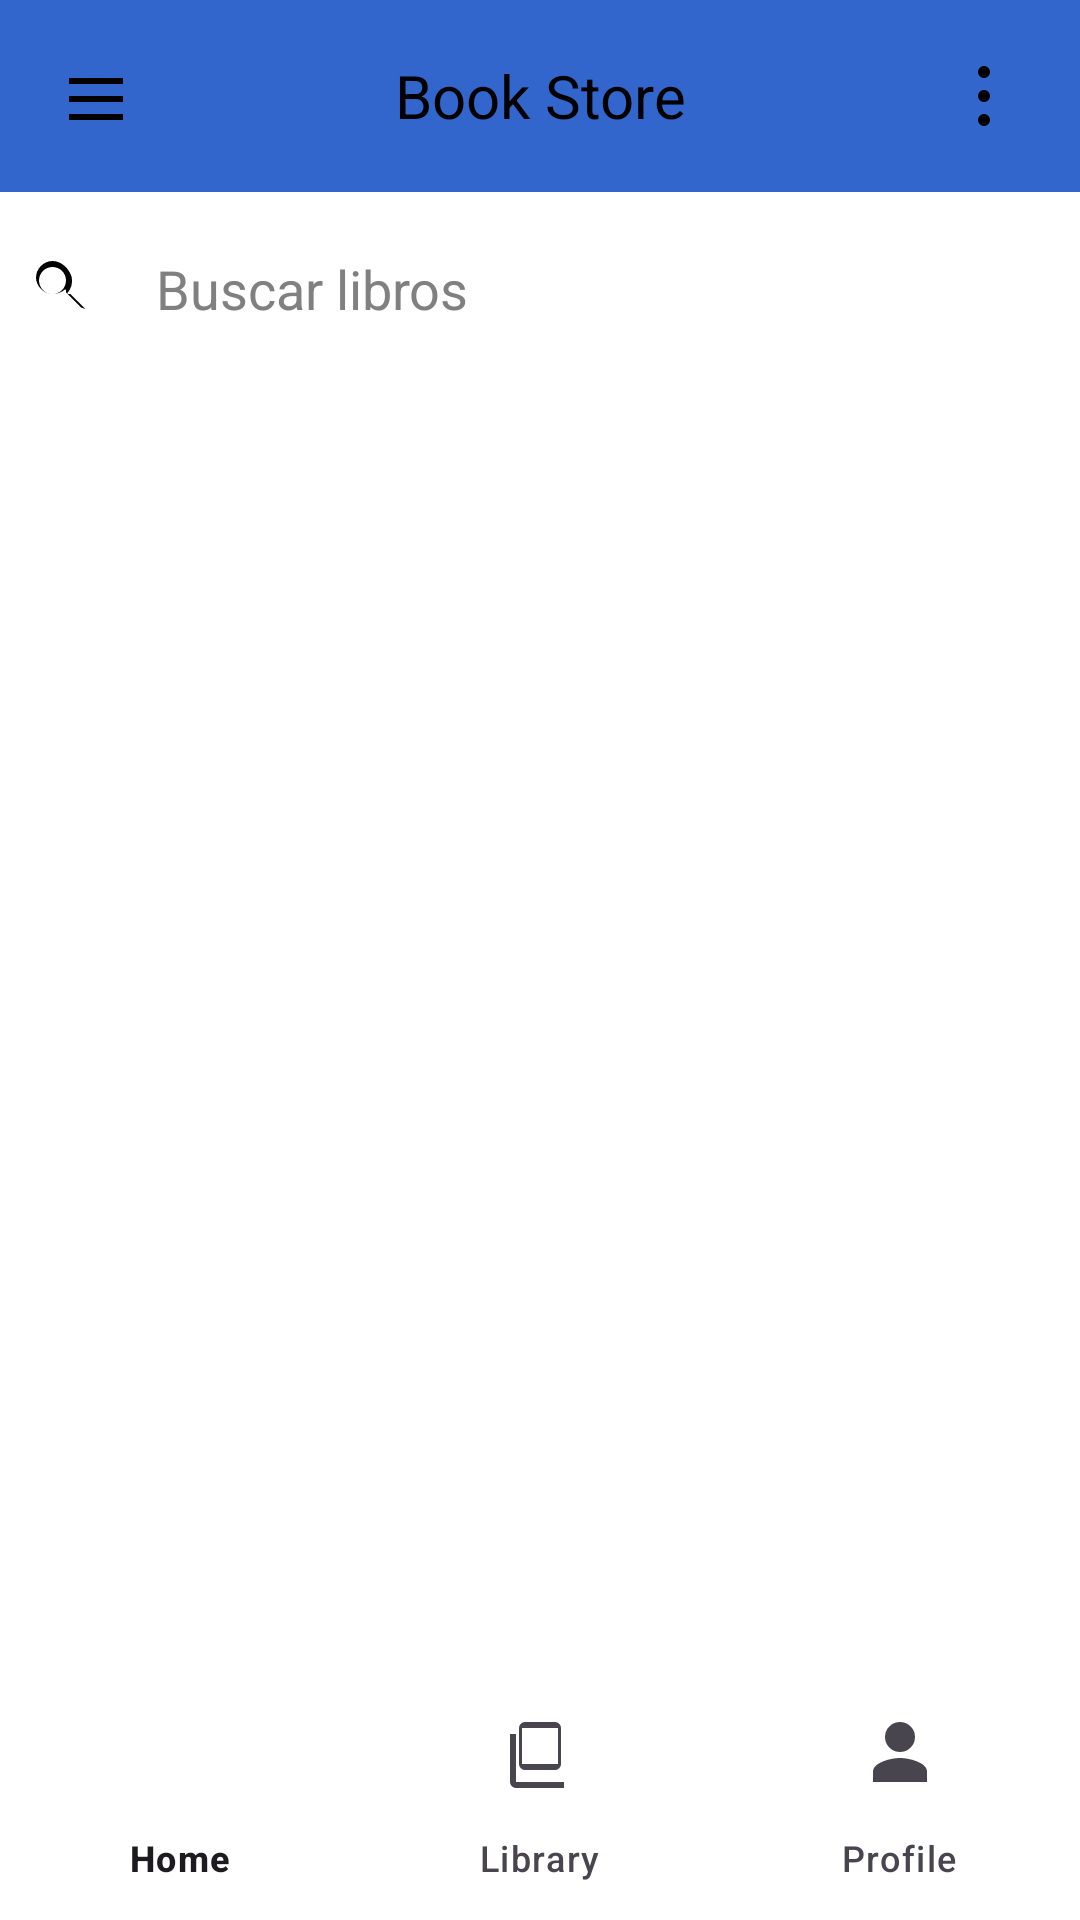

Named icons in this screenshot (1080×1920) and their bounding boxes, (x1, y1, x2, y2):
Icono de búsqueda: (36, 261, 85, 309)
Menu: (69, 78, 123, 120)
